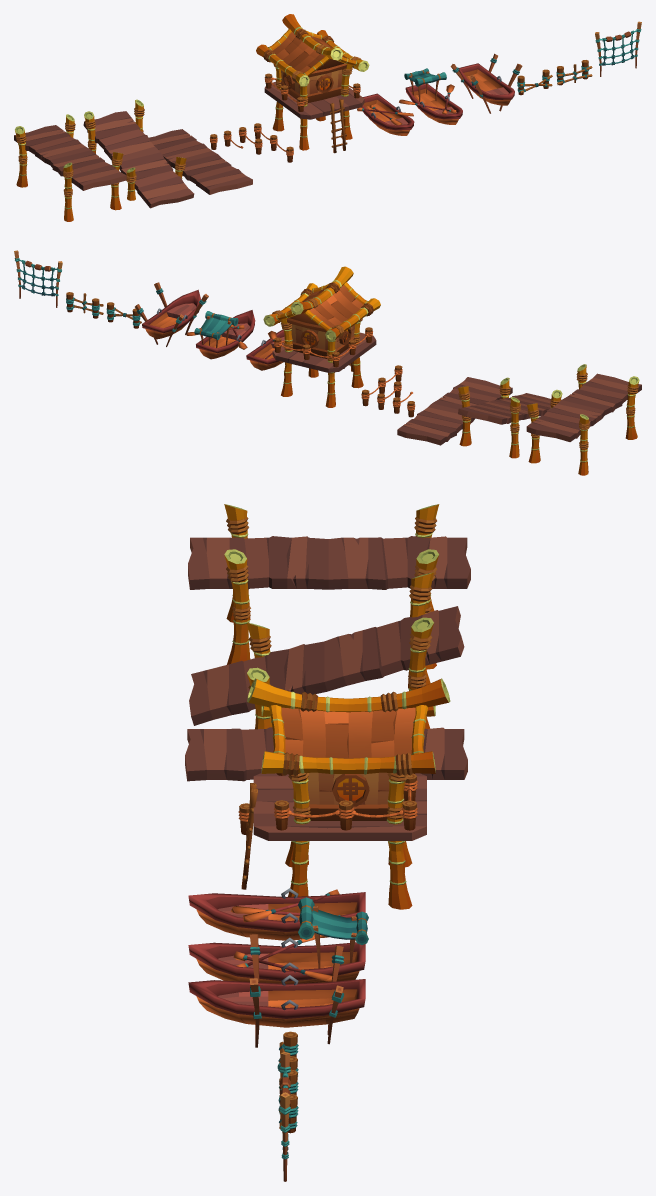
Rendered from fishing_village_pack.glb.
The picture shows the model from 3 angles, top to bottom: view 1: azimuth 30°, elevation 25°; view 2: azimuth 150°, elevation 25°; view 3: azimuth 270°, elevation 25°; orthographic projection. The views are drawn at different scales.
Parts seen in each view (by area): view 1: fishing_cabin, platform2, platform, platfrom3, boat2, boat3, boat, net, fence, fence2, fence_rope3; view 2: fishing_cabin, platform, platfrom3, platform2, boat2, boat3, net, boat, fence, fence_rope3, fence2; view 3: fishing_cabin, platform, platform2, boat2, boat3, platfrom3, boat, net.
Boxes of the visible parts, <box> form: fishing_cabin: <box>256,14,369,153</box>; platform2: <box>83,99,194,208</box>; platform: <box>14,114,126,221</box>; platfrom3: <box>149,129,252,194</box>; boat2: <box>399,68,462,124</box>; boat3: <box>450,53,522,113</box>; boat: <box>357,93,414,135</box>; net: <box>595,21,641,76</box>; fence: <box>556,60,592,85</box>; fence2: <box>517,69,552,95</box>; fence_rope3: <box>254,123,293,162</box>; fishing_cabin: <box>263,266,380,407</box>; platform: <box>526,364,641,475</box>; platfrom3: <box>397,377,512,445</box>; platform2: <box>458,377,562,458</box>; boat2: <box>186,310,255,359</box>; boat3: <box>135,282,208,346</box>; net: <box>14,250,62,307</box>; boat: <box>246,329,284,370</box>; fence: <box>66,292,103,318</box>; fence_rope3: <box>361,365,402,406</box>; fence2: <box>106,302,141,328</box>; fishing_cabin: <box>241,678,450,909</box>; platform: <box>188,504,470,669</box>; platform2: <box>189,572,464,729</box>; boat2: <box>188,897,368,983</box>; boat3: <box>188,934,365,1047</box>; platfrom3: <box>185,727,467,781</box>; boat: <box>188,888,365,940</box>; net: <box>279,1052,290,1181</box>.
Bounding box in the file's own units: 20.17 × 3.38 × 4.22.
2 materials, 2 textured.
